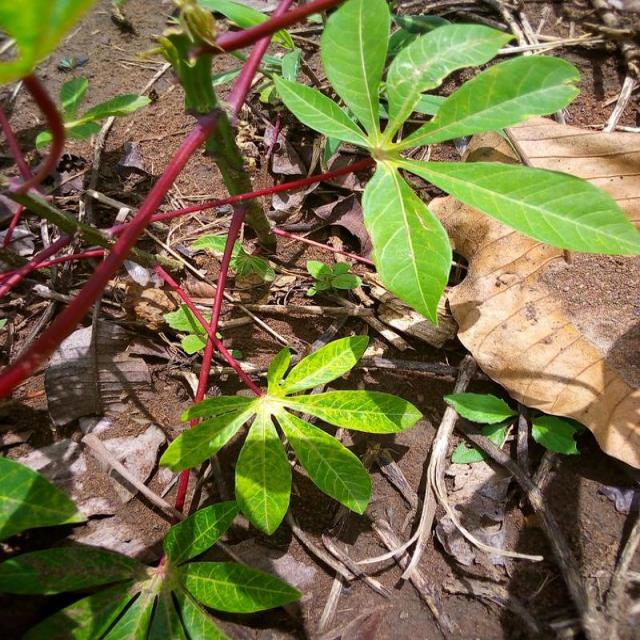cassava leaf: (158, 332, 423, 535), (396, 156, 639, 256), (360, 159, 452, 327)
